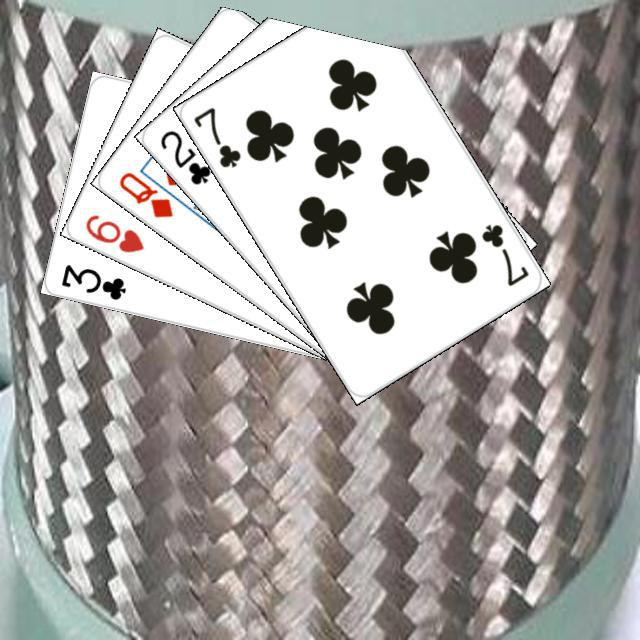2c: (155, 125, 213, 187)
3c: (56, 259, 128, 302)
6h: (80, 209, 146, 255)
7c: (476, 219, 531, 289), (188, 102, 243, 170)
Qd: (114, 167, 175, 220)
